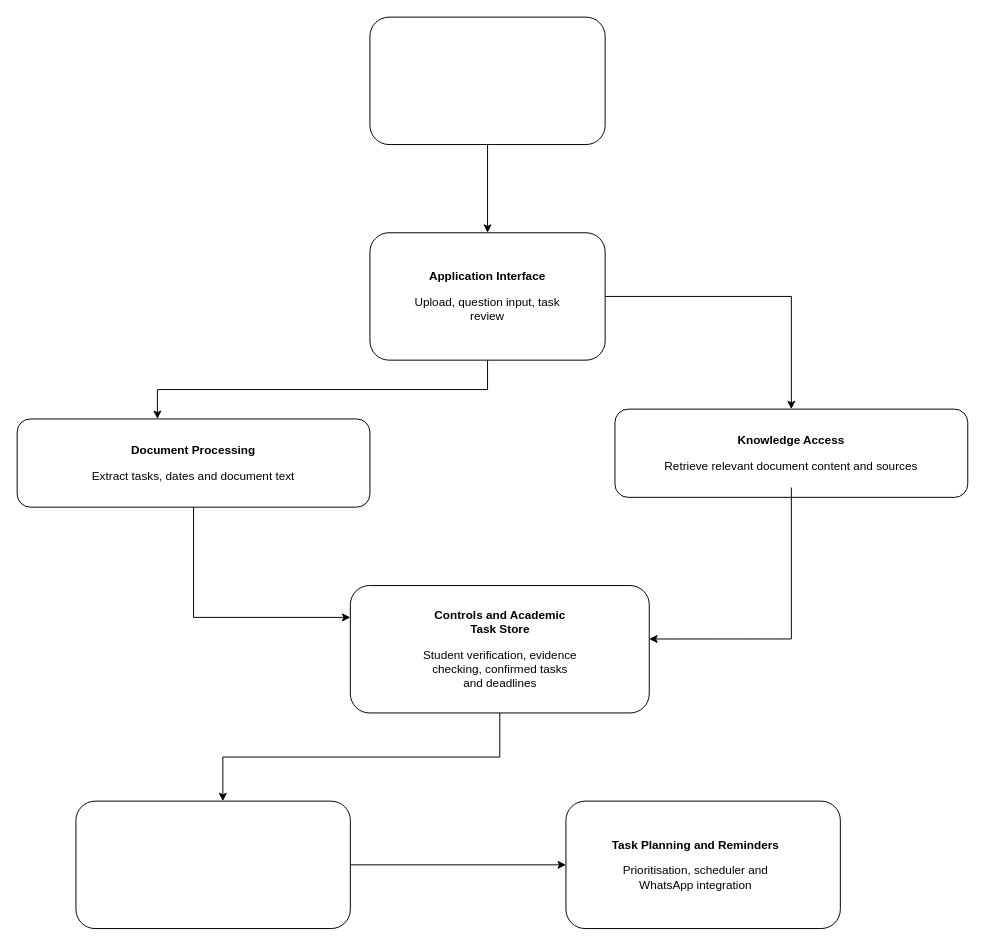
Some shapes in this 985 by 946 pixel diagram are drawn without their labels. Each missing label, with the centre of its shape:
AI Response Answer with source references or explain insufficient evidence: (212,864)
Student u ploads PDFs/screenshots or asks a question: (487,80)
